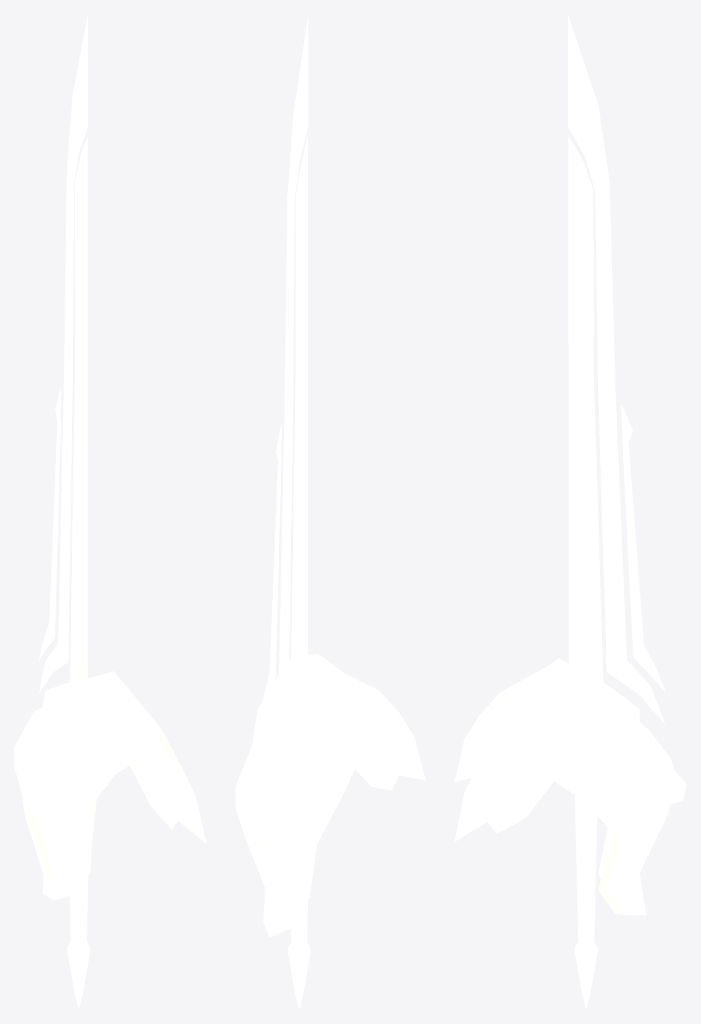
File: championRapier.glb
3 views of the same model, side by side, from view 1: azimuth 30°, elevation 25°; view 2: azimuth 150°, elevation 25°; view 3: azimuth 270°, elevation 25° (orthographic).
Visible parts, largest first — view 1: championRapier; view 2: championRapier; view 3: championRapier.
Part boxes in pixels (x1=…): championRapier: x1=14, y1=15, x2=206, y2=1009; championRapier: x1=235, y1=15, x2=425, y2=1009; championRapier: x1=454, y1=15, x2=686, y2=1009.
Size of the model in its own units: 0.1582 by 1.21 by 0.2558.
Materials: 1 (1 with a texture image).
